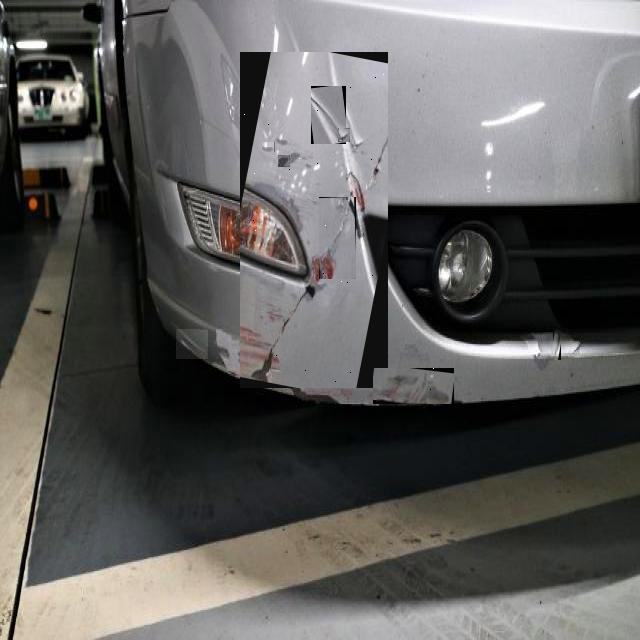Dent: (240, 52, 388, 388), (319, 197, 356, 279), (373, 368, 454, 404), (311, 86, 346, 144), (176, 329, 208, 359), (553, 330, 561, 360), (338, 128, 350, 142), (278, 155, 290, 167), (262, 142, 275, 152)
